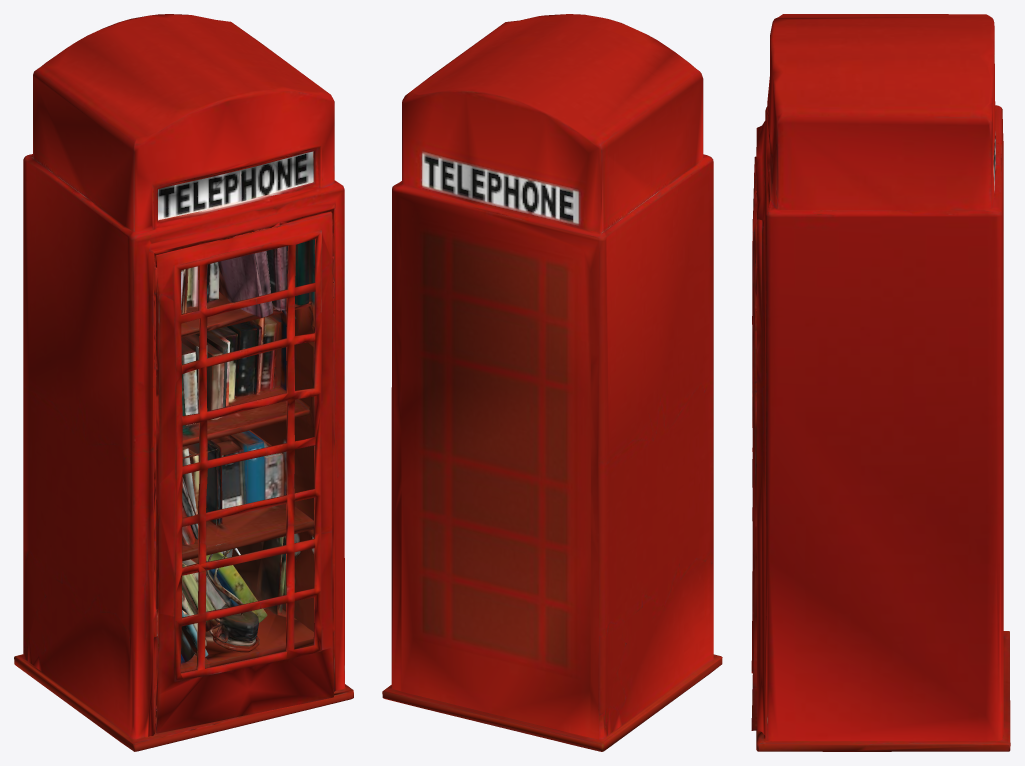
The model's file is kulube.glb.
3 renders of one model, left to right at view 1: azimuth 30°, elevation 25°; view 2: azimuth 150°, elevation 25°; view 3: azimuth 270°, elevation 25°, orthographic. The views are drawn at different scales.
Bounding box in the file's own units: 0.7046 × 1.9 × 0.6786.
1 material, 1 textured.
